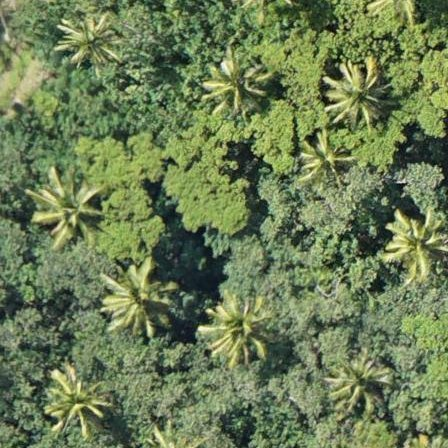palm_tree: (103, 268, 174, 344), (42, 365, 116, 432), (31, 176, 99, 248), (207, 291, 274, 362), (321, 60, 386, 128), (203, 52, 267, 118), (61, 8, 124, 75), (388, 211, 448, 280), (329, 353, 387, 415), (299, 128, 355, 188)
